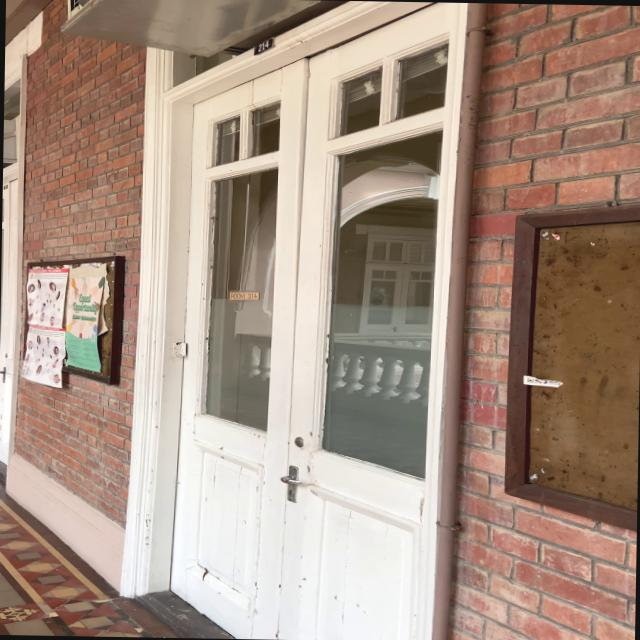room214: (252, 36, 276, 56)
